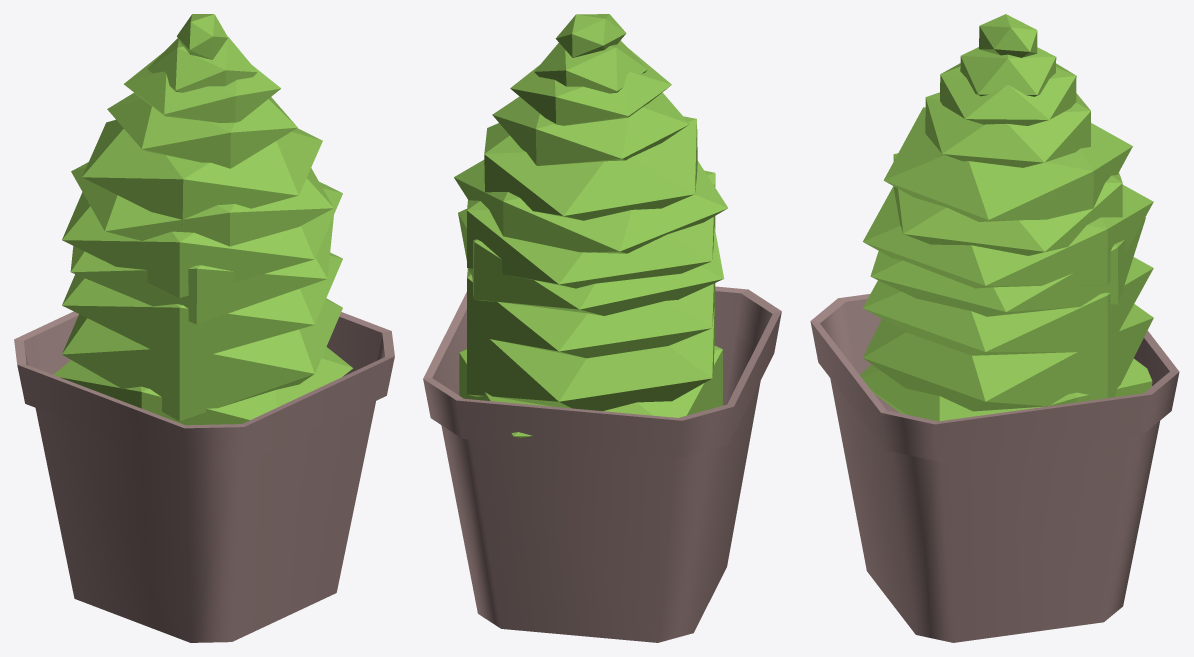
Rendered from flowerpot deb.fbx.
3 views of the same model, side by side, from view 1: azimuth 30°, elevation 25°; view 2: azimuth 150°, elevation 25°; view 3: azimuth 270°, elevation 25° (orthographic). The views are drawn at different scales.
Visible parts, largest first — view 1: polySurface17, polySurface29, polySurface28, polySurface23, polySurface21, polySurface19, polySurface22, polySurface20, polySurface24, polySurface18, polySurface25, polySurface26 (+1 smaller); view 2: polySurface17, polySurface29, polySurface28, polySurface23, polySurface19, polySurface21, polySurface22, polySurface20, polySurface24, polySurface25, polySurface26, polySurface18 (+1 smaller); view 3: polySurface17, polySurface29, polySurface28, polySurface23, polySurface19, polySurface21, polySurface20, polySurface22, polySurface24, polySurface25, polySurface18, polySurface26 (+1 smaller).
Part boxes in pixels (x1,y1,x2,y2): polySurface17: (35,359,375,642); polySurface29: (14,311,394,464); polySurface28: (62,298,342,421); polySurface23: (82,120,322,227); polySurface21: (62,182,342,297); polySurface19: (62,252,342,361); polySurface22: (71,162,333,246); polySurface20: (70,215,333,324); polySurface24: (107,93,297,168); polySurface18: (53,347,352,425); polySurface25: (124,53,280,122); polySurface26: (147,37,257,92); polySurface17: (441,332,760,642); polySurface29: (423,286,781,458); polySurface28: (467,298,715,411); polySurface23: (484,116,697,220); polySurface19: (467,268,715,358); polySurface21: (467,170,715,288); polySurface22: (454,160,727,253); polySurface20: (458,209,724,315); polySurface24: (492,92,689,165); polySurface25: (510,47,671,125); polySurface26: (534,40,647,93); polySurface18: (459,345,722,438); polySurface17: (830,339,1159,642); polySurface29: (810,294,1179,461); polySurface28: (862,304,1153,411); polySurface23: (883,107,1132,221); polySurface19: (863,257,1153,355); polySurface21: (863,185,1153,288); polySurface20: (870,217,1145,316); polySurface22: (893,153,1122,255); polySurface24: (925,92,1090,167); polySurface25: (940,63,1076,125); polySurface18: (860,358,1152,421); polySurface26: (960,47,1056,96).
Size of the model in its own units: 0.6381 by 1.09 by 0.6381.
